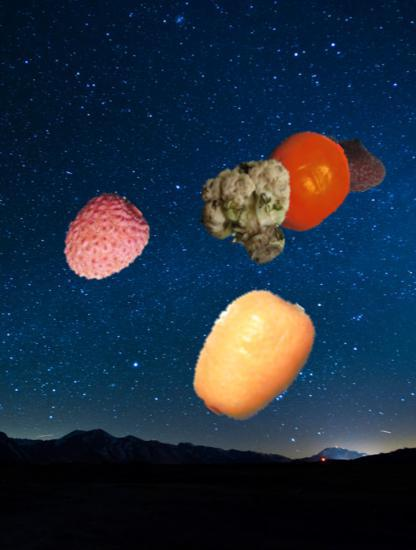Cauliflower: (199, 161, 306, 268)
Clementine: (252, 130, 355, 233)
Kumquats: (184, 287, 321, 424)
Lychee: (57, 193, 150, 286)
Strawberry: (301, 122, 388, 209)
